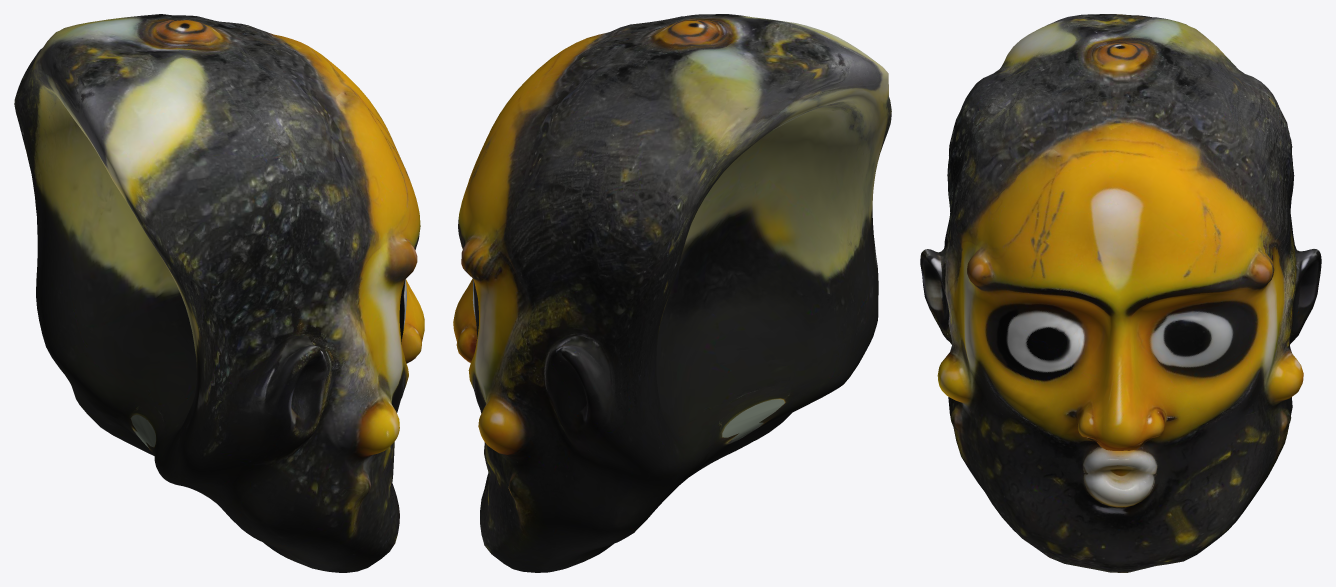
The model's file is glassmaskyellow.glb.
3 views of the same model, side by side, from view 1: azimuth 30°, elevation 25°; view 2: azimuth 150°, elevation 25°; view 3: azimuth 270°, elevation 25° (orthographic). The views are drawn at different scales.
Visible parts, largest first — view 1: Bearded_Glass_Mask_Ar_0519141751_texture; view 2: Bearded_Glass_Mask_Ar_0519141751_texture; view 3: Bearded_Glass_Mask_Ar_0519141751_texture.
Boxes of the visible parts, <box> form: Bearded_Glass_Mask_Ar_0519141751_texture: <box>14,14,424,572</box>; Bearded_Glass_Mask_Ar_0519141751_texture: <box>453,14,891,572</box>; Bearded_Glass_Mask_Ar_0519141751_texture: <box>920,14,1321,572</box>.
Size of the model in its own units: 0.5108 by 0.7384 by 0.5764.
1 material, 1 textured.
